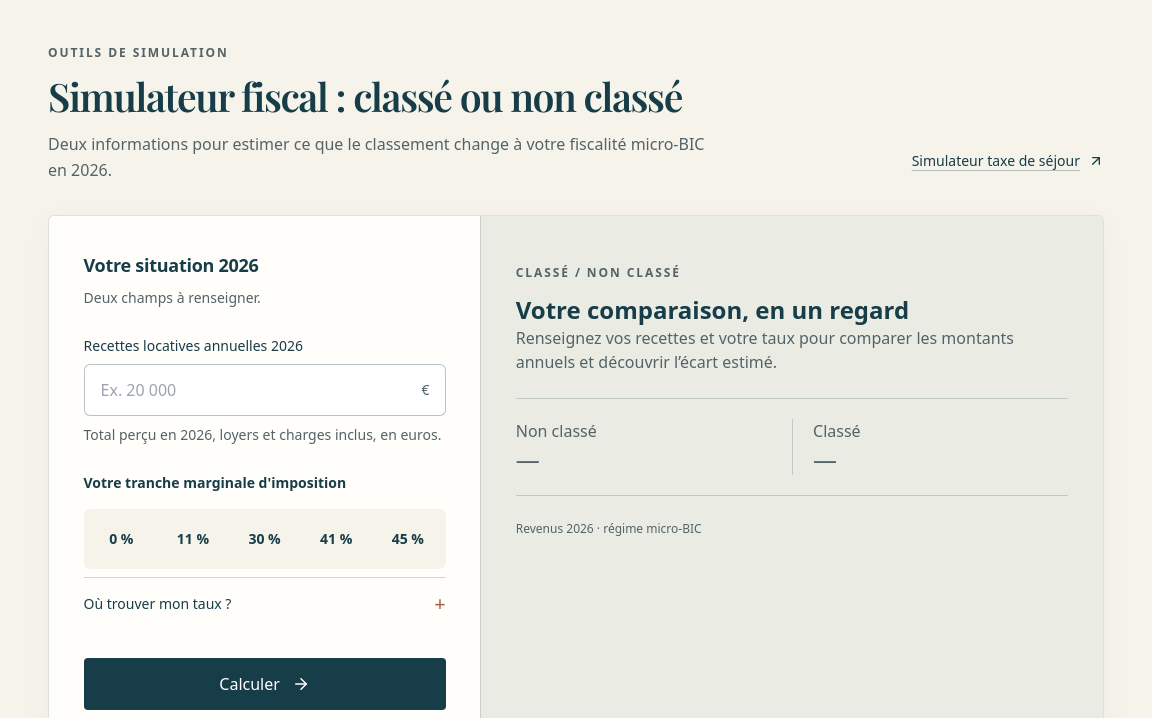
Test: parcours et restauration des simulateurs › masque les valeurs du tableau fiscal détaillé dans le replay desktop et mobile
The width and height of the screenshot is (1152, 718).
Type "15000" into the field with id "annual-revenue-input".
click(265, 390); type("15000")  # box x1=84 y1=364 x2=446 y2=416
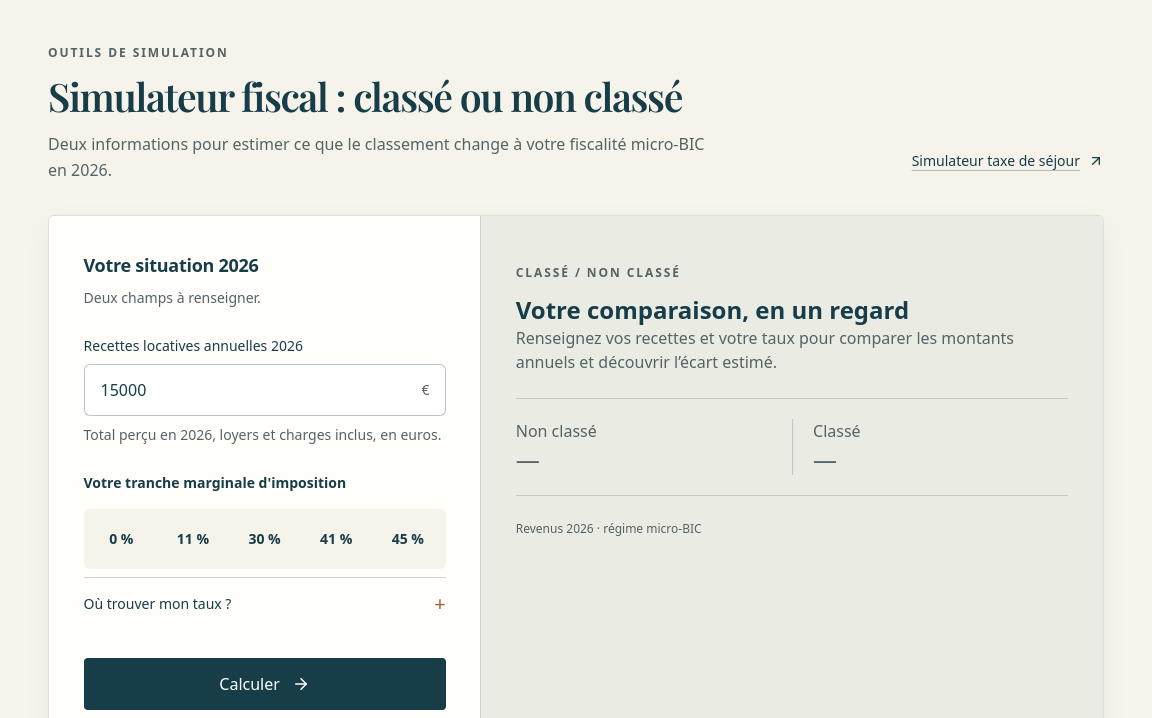
Click the radio button labelled "30 %".
click(265, 538)  # box x1=248 y1=529 x2=281 y2=548
(page scrolled)
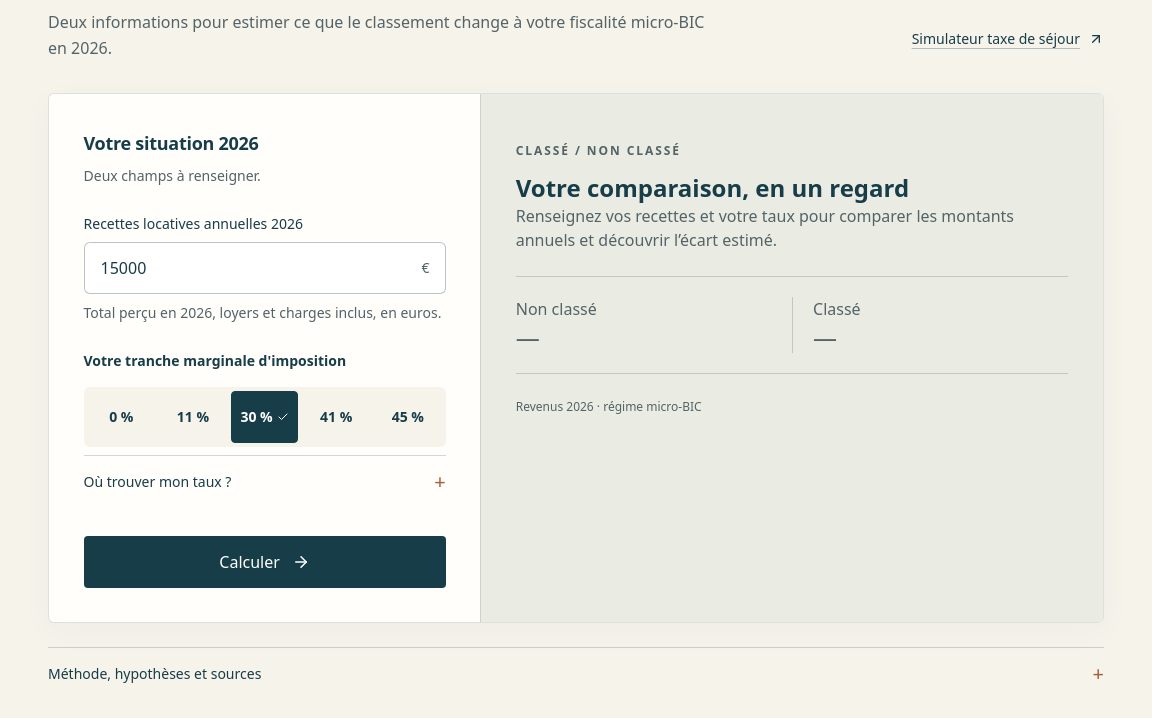
Submit the form, box x1=49 y1=94 x2=480 y2=622
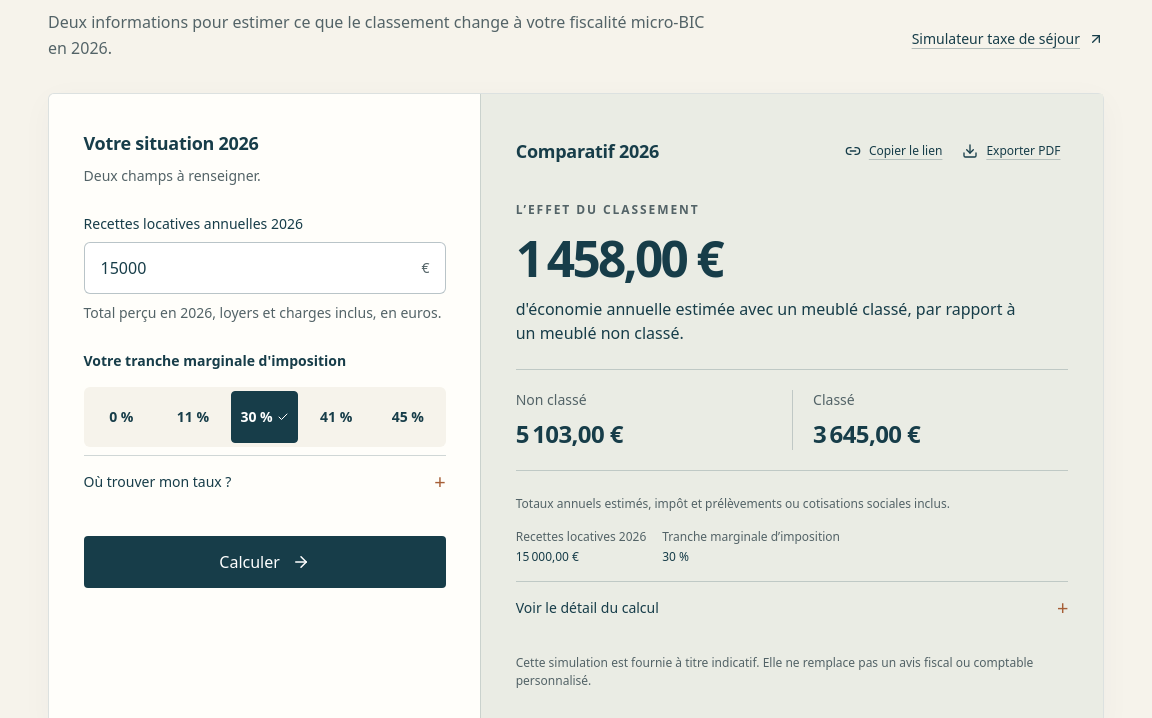
Click the heading "Voir le détail du calcul".
click(587, 608)  # box x1=516 y1=598 x2=659 y2=617
(page scrolled)
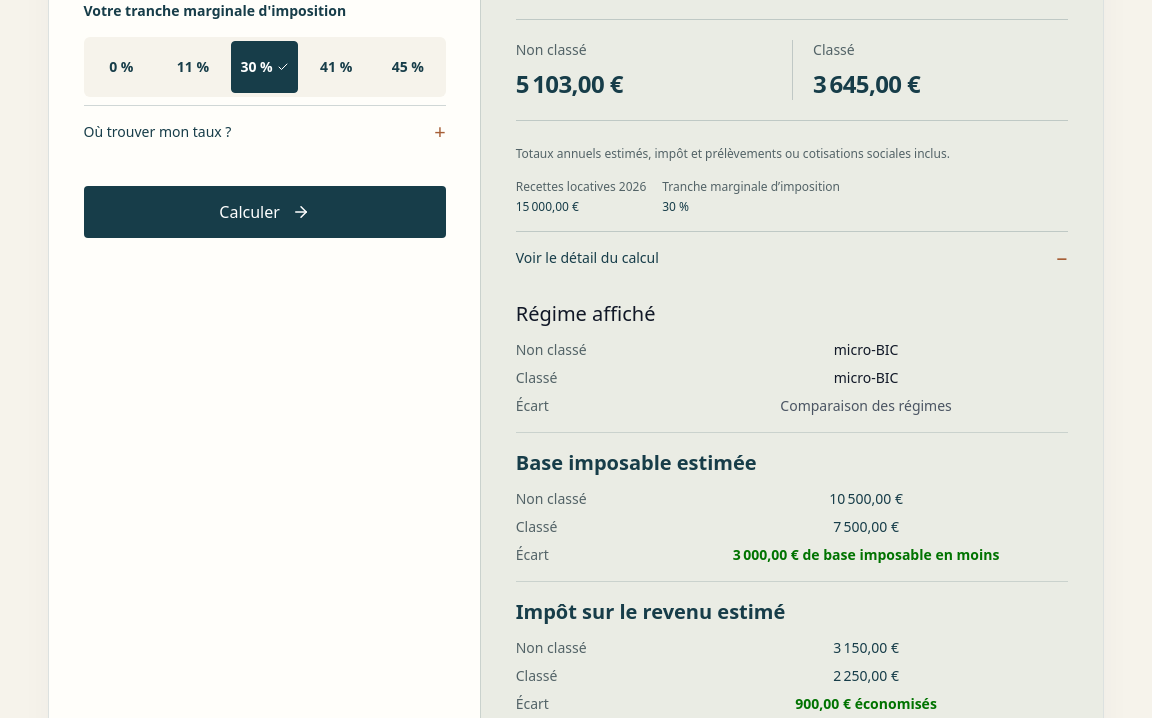
Expected: the element that starts with "Régime affiché" is shown, x1=516 y1=284 x2=1068 y2=433
